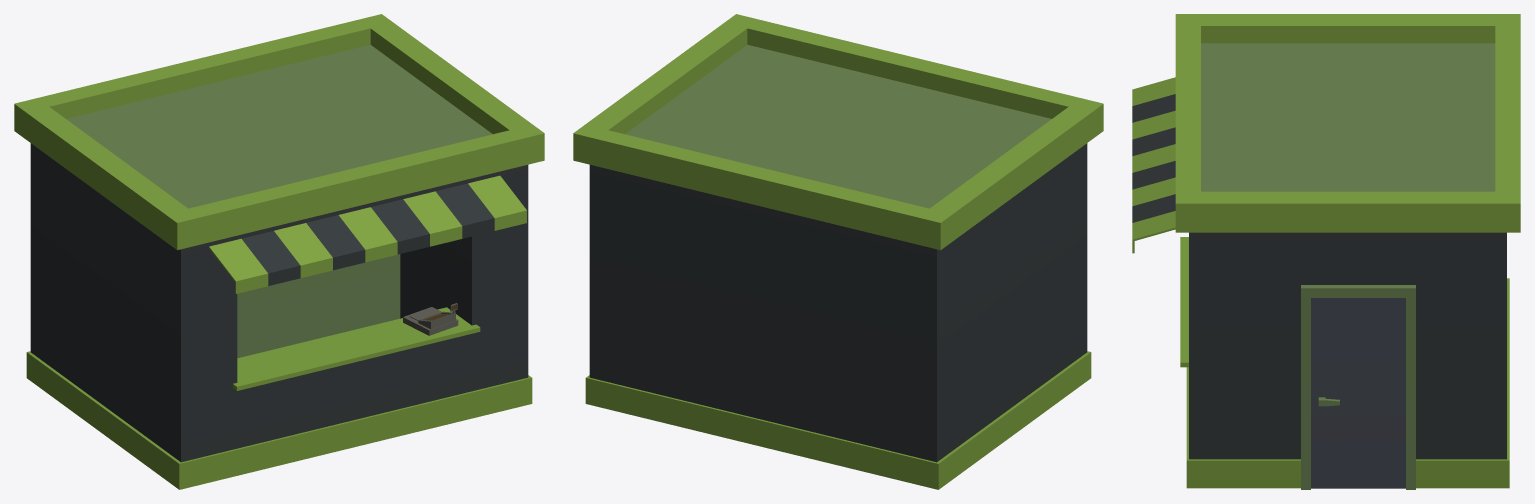
The model's file is SmallMarket_02.fbx.
3 renders of one model, left to right at view 1: azimuth 30°, elevation 25°; view 2: azimuth 150°, elevation 25°; view 3: azimuth 270°, elevation 25°, orthographic. The views are drawn at different scales.
Visible parts, largest first — view 1: SmallMarket_02; view 2: SmallMarket_02; view 3: SmallMarket_02.
Boxes of the visible parts, bbox=[...] form: SmallMarket_02: bbox=[14, 14, 544, 489]; SmallMarket_02: bbox=[573, 14, 1103, 489]; SmallMarket_02: bbox=[1132, 14, 1520, 489].
Bounding box in the file's own units: 4.24 × 3 × 3.66.
